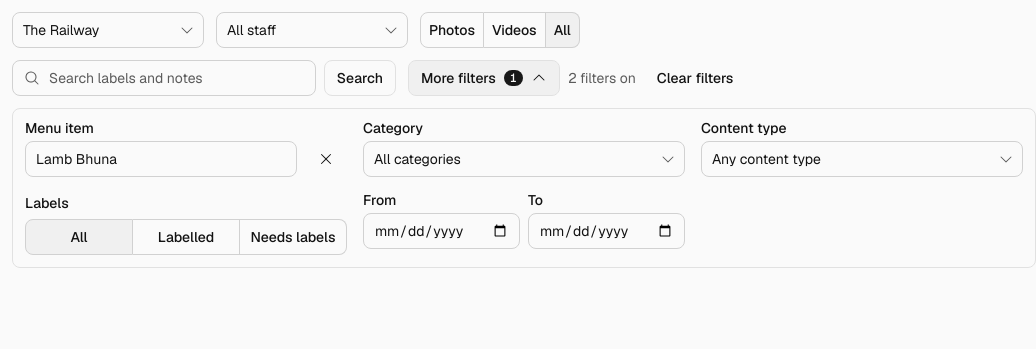
Test: LibraryFilters more filters › hides Variant for items without variants and finds historical items
Replace the text in the dropdown labelled "Menu item" with "not on active" at (161, 159), box [25,141,297,177]
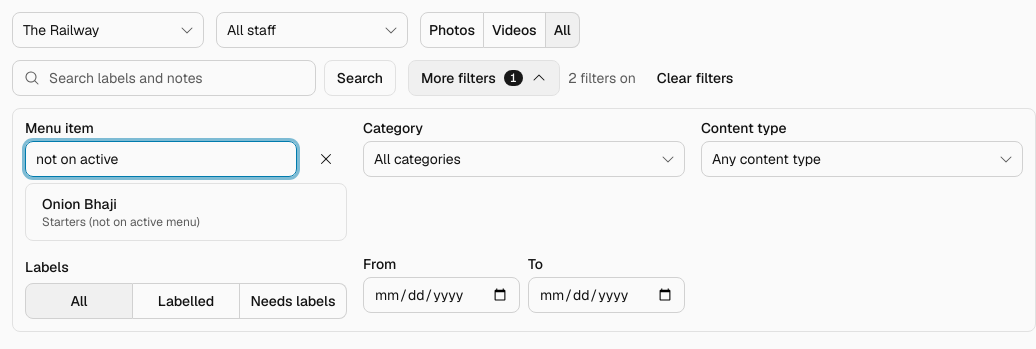
Expected: the options read "Onion BhajiStarters (not on active menu)", in this order, [42,195,200,230]
Press Escape
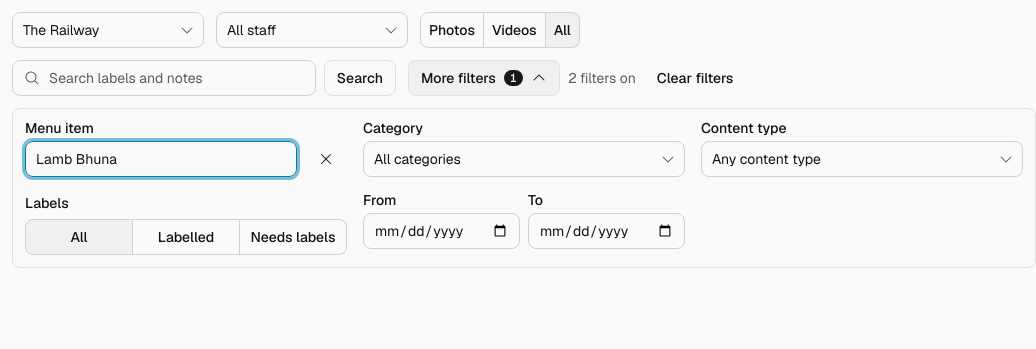
Expected: the dropdown labelled "Menu item" is collapsed
Expected: the dropdown labelled "Menu item" holds "Lamb Bhuna"
Type "zzz" into the dropdown labelled "Menu item" at (161, 159), box [25,141,297,177]
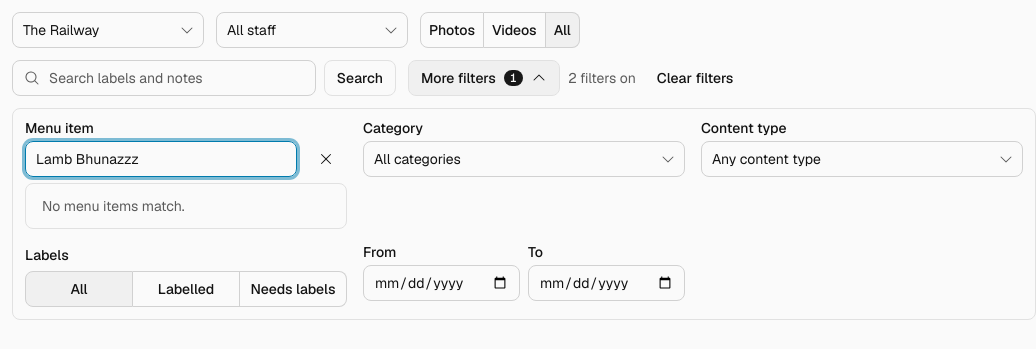
Expected: the list item "No menu items match." is shown, [42,197,185,215]
